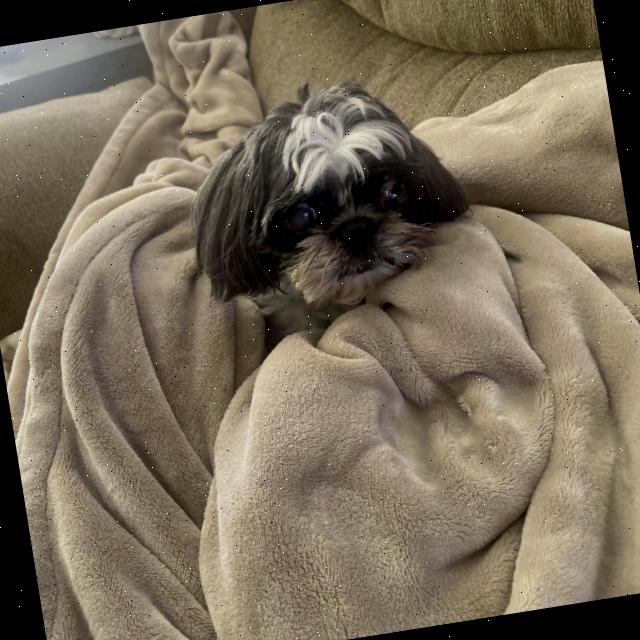shih_tzu_dog: (165, 60, 486, 342)
